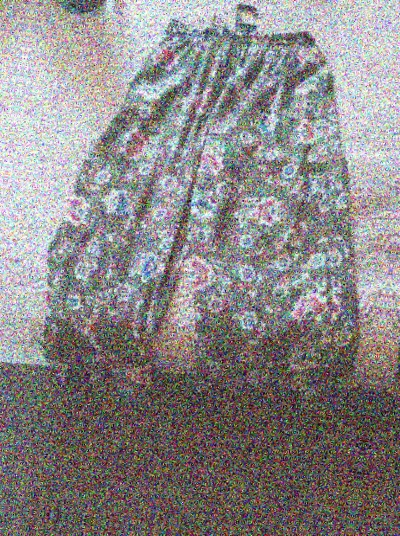Pants: (22, 0, 394, 450), (395, 48, 400, 509)
